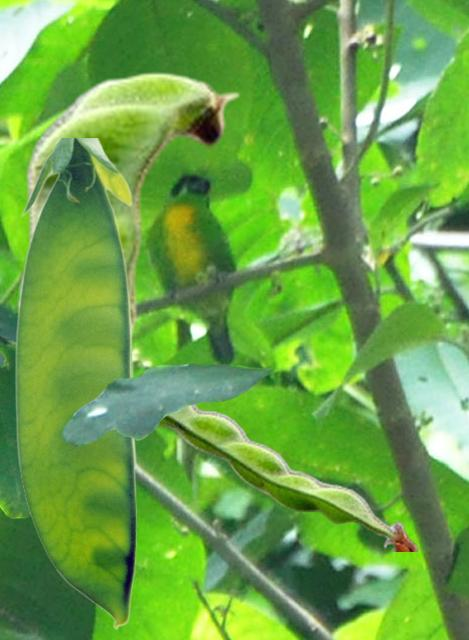pea: (11, 71, 240, 347), (14, 138, 135, 628), (64, 388, 418, 550)
